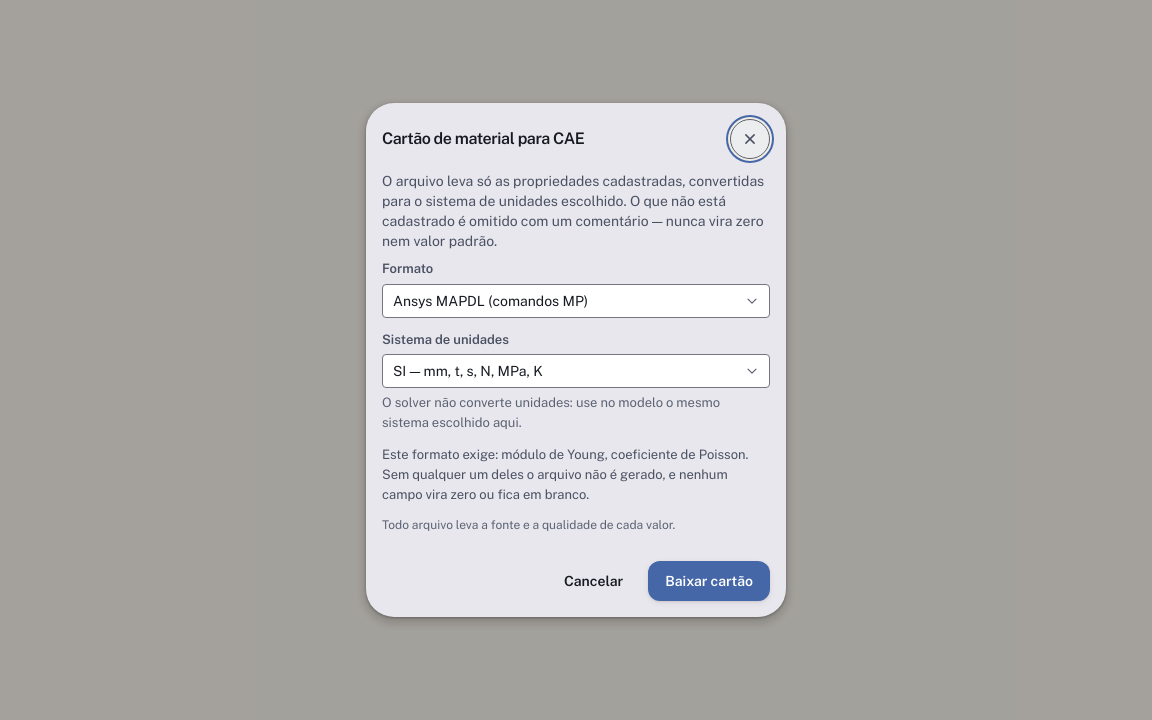
CaeExportDialog: thermal formats (D-112, D-171) › shows the server's 422 for a thermal card the record cannot fill, and stays open
Select "LS-DYNA térmico (*MAT_THERMAL_ISOTROPIC)" in the dropdown labelled "Formato" at coordinates (576, 300), box [382,284,770,318]
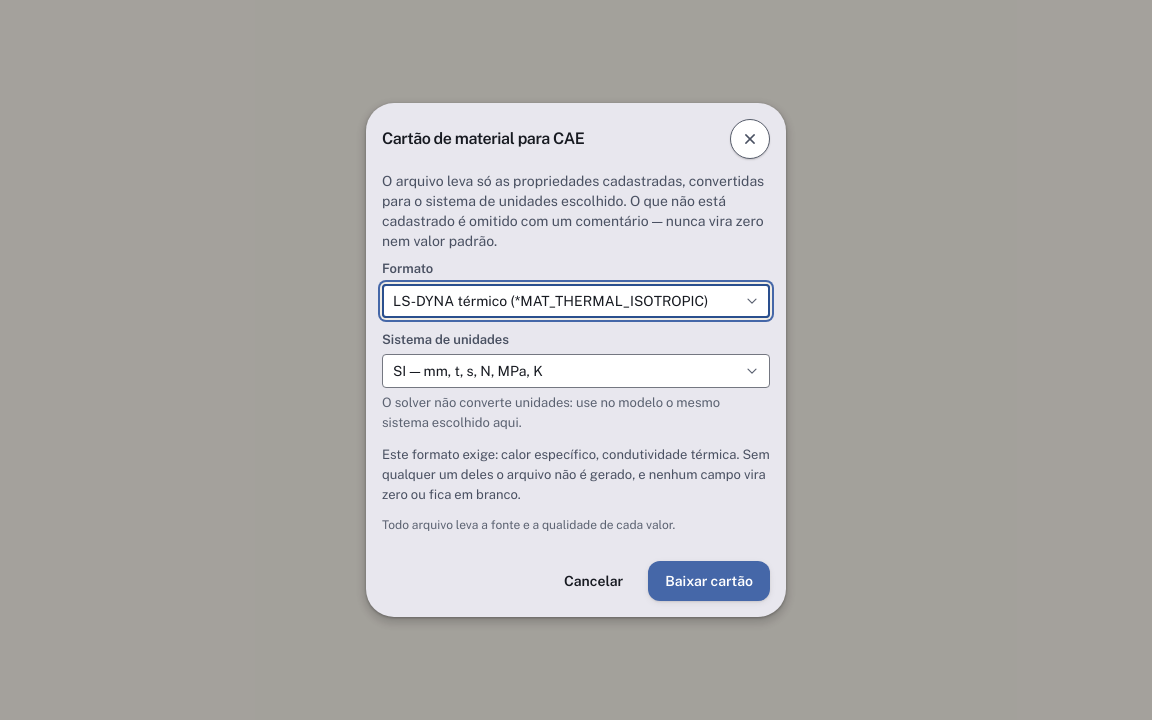
Click the button "Baixar cartão" at coordinates (709, 581), box [648,561,770,601]
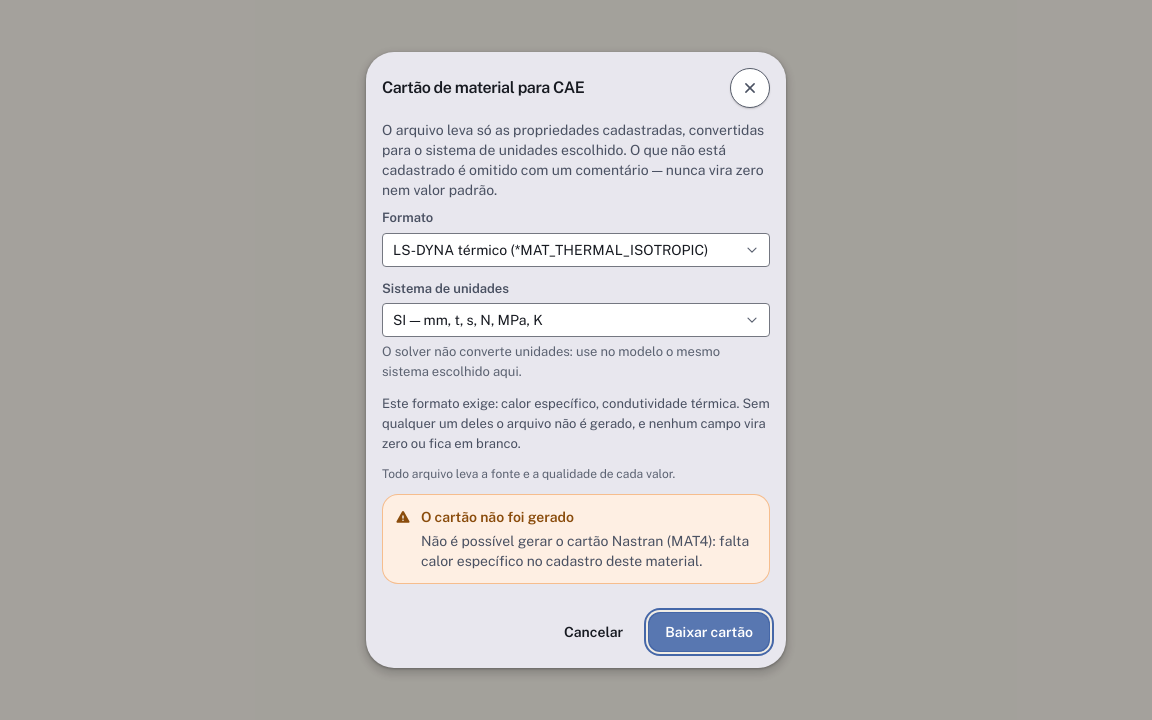
expect the message shows "O cartão não foi gerado": met, box [421,509,574,525]
expect the message shows "falta calor específico": met, box [421,533,749,569]
